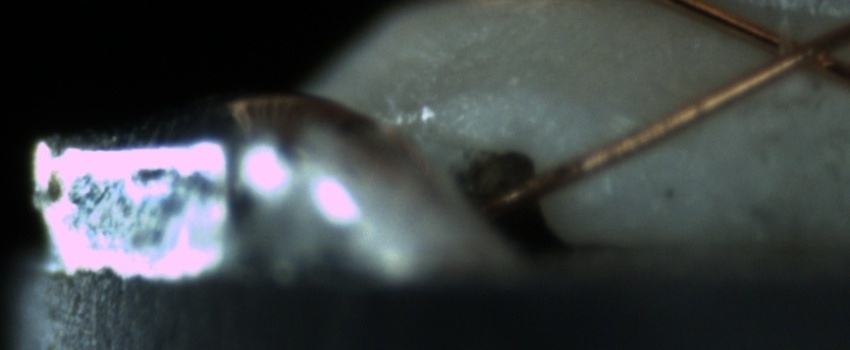CL: (749, 12, 848, 85)
